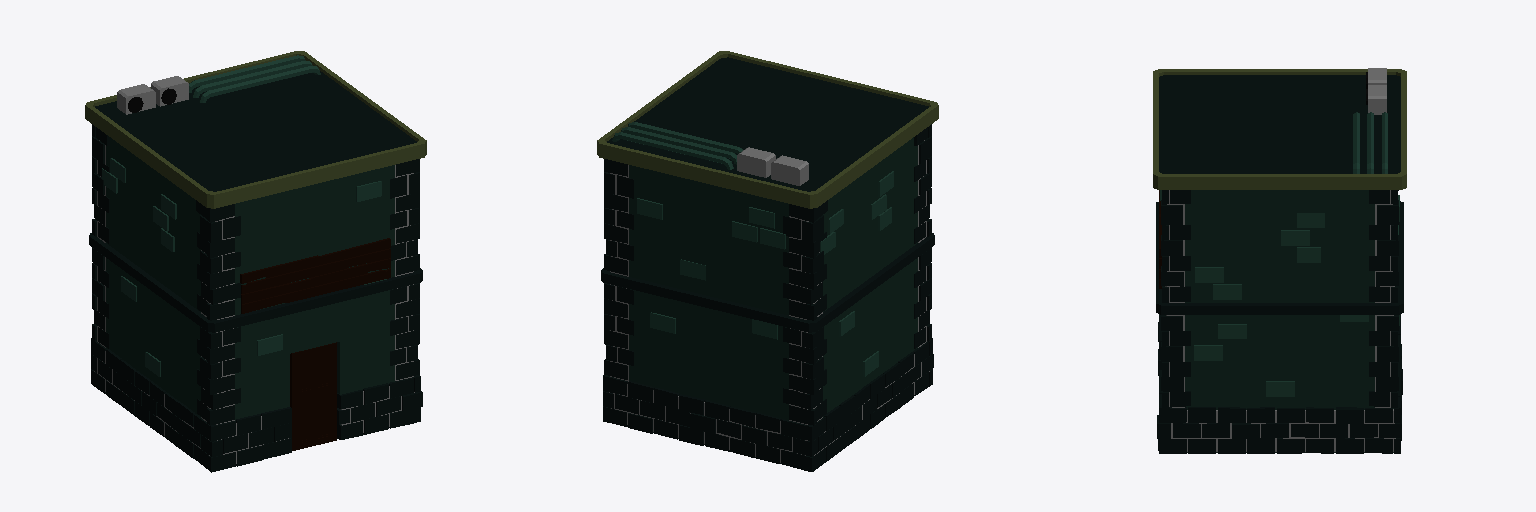
File: 2Story_Sign_Mat.obj
3 views of the same model, side by side, from view 1: azimuth 30°, elevation 25°; view 2: azimuth 150°, elevation 25°; view 3: azimuth 270°, elevation 25° (orthographic).
Visible parts, largest first — view 1: 2Story_Sign_Mat_Cube.030; view 2: 2Story_Sign_Mat_Cube.030; view 3: 2Story_Sign_Mat_Cube.030.
Part boxes in pixels (left/top/right/bottom): 2Story_Sign_Mat_Cube.030: left=85, top=51, right=426, bottom=472; 2Story_Sign_Mat_Cube.030: left=597, top=51, right=938, bottom=471; 2Story_Sign_Mat_Cube.030: left=1153, top=68, right=1406, bottom=453.
Size of the model in its own units: 2.15 by 2.76 by 2.15.